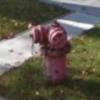a fire hydrant: (29, 18, 72, 82)
